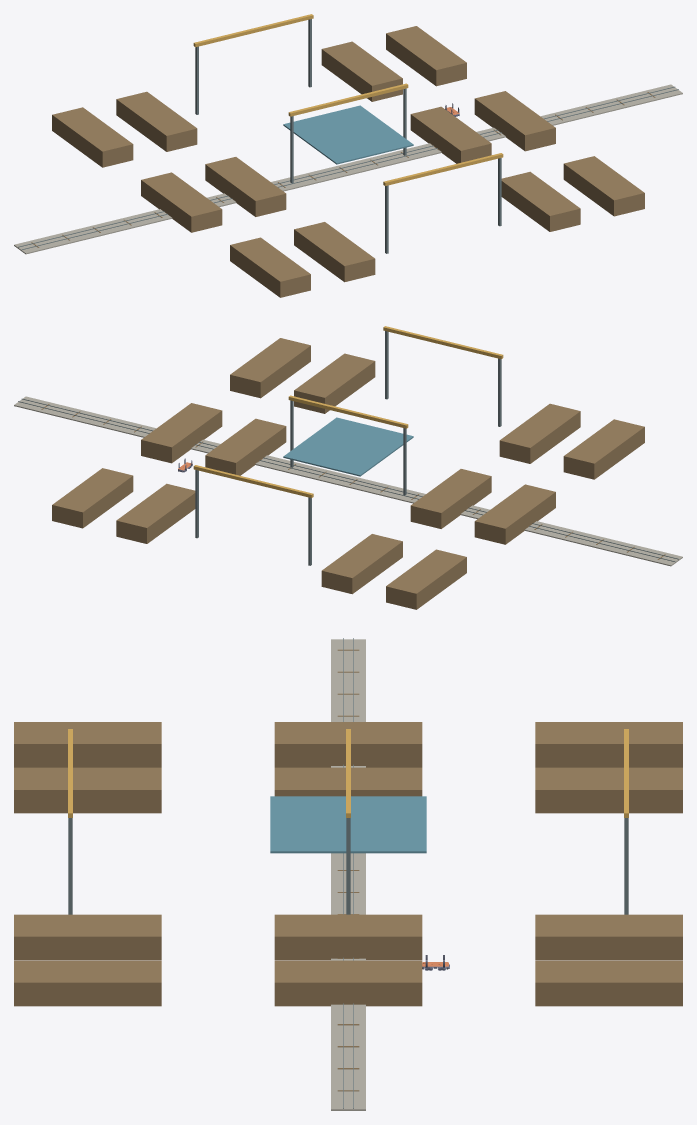
The model's file is valley-13-12.glb.
The picture shows the model from 3 angles, top to bottom: view 1: azimuth 30°, elevation 25°; view 2: azimuth 150°, elevation 25°; view 3: azimuth 270°, elevation 25°; orthographic projection. The views are drawn at different scales.
Parts seen in each view (by area): view 1: valley-13-12; view 2: valley-13-12; view 3: valley-13-12.
Part boxes in pixels (left/top/right/bottom): valley-13-12: left=14, top=14, right=682, bottom=297; valley-13-12: left=14, top=326, right=682, bottom=609; valley-13-12: left=14, top=638, right=682, bottom=1110.
Size of the model in its own units: 256 by 26.6 by 154.
8 materials, 3 textured.
